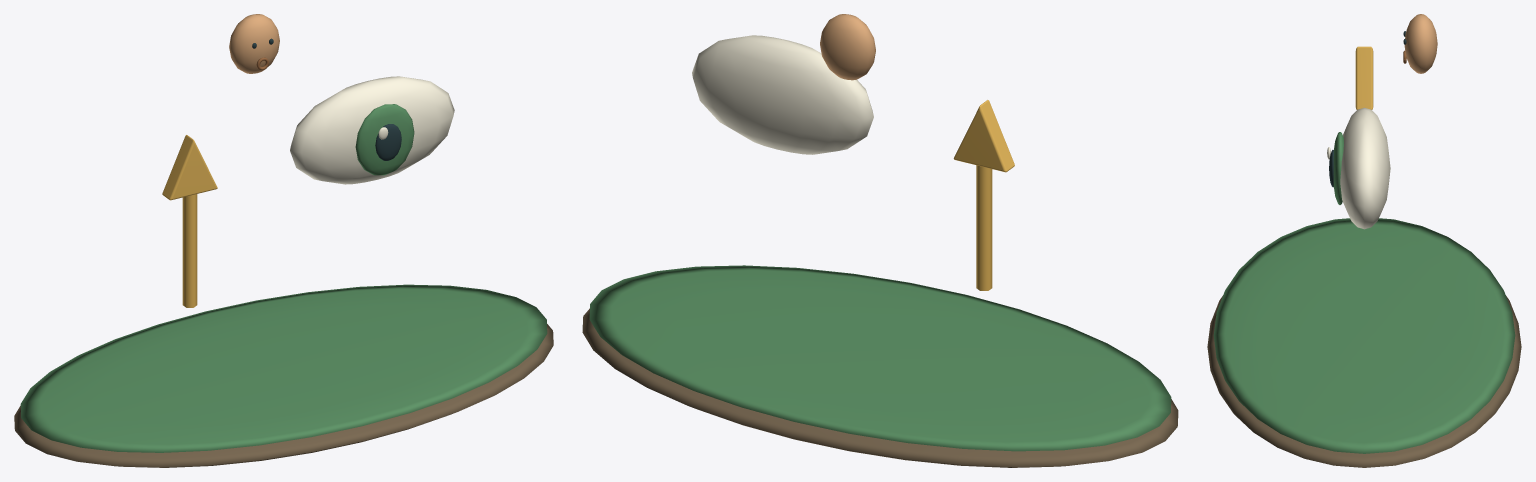
File: complete-third-lifting-awake.glb
3 views of the same model, side by side, from view 1: azimuth 30°, elevation 25°; view 2: azimuth 150°, elevation 25°; view 3: azimuth 270°, elevation 25° (orthographic). The views are drawn at different scales.
Visible parts, largest first — view 1: complete-third-lifting-awake_surface_01, complete-third-lifting-awake_surface_03, complete-third-lifting-awake_surface_00, complete-third-lifting-awake_surface_02, complete-third-lifting-awake_surface_05, complete-third-lifting-awake_surface_04; view 2: complete-third-lifting-awake_surface_01, complete-third-lifting-awake_surface_03, complete-third-lifting-awake_surface_00, complete-third-lifting-awake_surface_02, complete-third-lifting-awake_surface_05; view 3: complete-third-lifting-awake_surface_01, complete-third-lifting-awake_surface_00, complete-third-lifting-awake_surface_03, complete-third-lifting-awake_surface_05, complete-third-lifting-awake_surface_02.
Part boxes in pixels (box(x1,y1,x2,y2)): complete-third-lifting-awake_surface_01: box(20, 104, 547, 452); complete-third-lifting-awake_surface_03: box(290, 76, 454, 184); complete-third-lifting-awake_surface_00: box(14, 324, 553, 467); complete-third-lifting-awake_surface_02: box(162, 135, 217, 307); complete-third-lifting-awake_surface_05: box(229, 14, 279, 73); complete-third-lifting-awake_surface_04: box(252, 38, 401, 160); complete-third-lifting-awake_surface_01: box(589, 265, 1171, 451); complete-third-lifting-awake_surface_03: box(692, 35, 873, 154); complete-third-lifting-awake_surface_00: box(582, 308, 1178, 467); complete-third-lifting-awake_surface_02: box(953, 100, 1014, 290); complete-third-lifting-awake_surface_05: box(820, 14, 875, 80); complete-third-lifting-awake_surface_01: box(1213, 132, 1515, 453); complete-third-lifting-awake_surface_00: box(1207, 296, 1521, 467); complete-third-lifting-awake_surface_03: box(1327, 107, 1390, 229); complete-third-lifting-awake_surface_05: box(1404, 14, 1437, 73); complete-third-lifting-awake_surface_02: box(1355, 46, 1373, 109).
Bounding box in the file's own units: 4.56 × 3.03 × 2.5.
